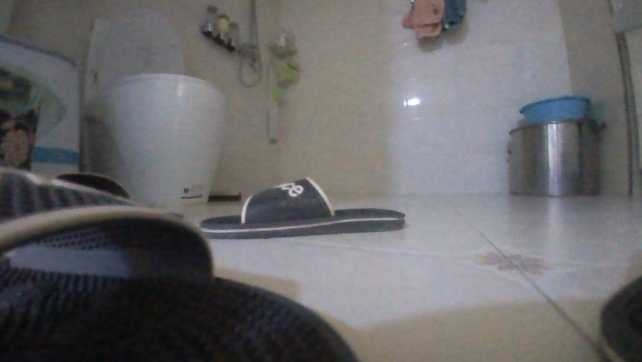slipper: (193, 175, 407, 239)
toilet: (80, 3, 224, 205)
